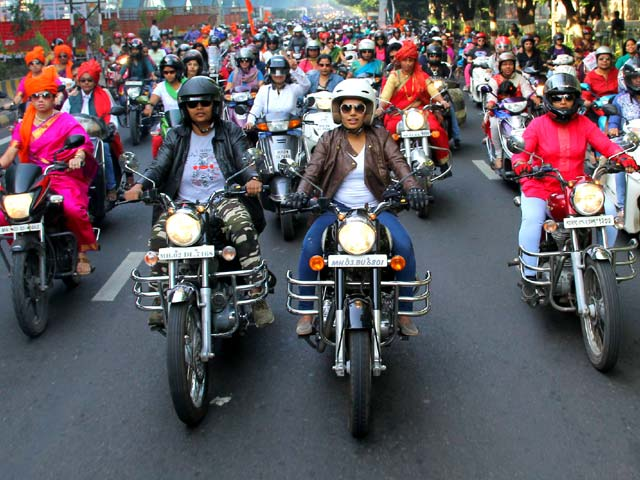helmet: (175, 74, 225, 130)
